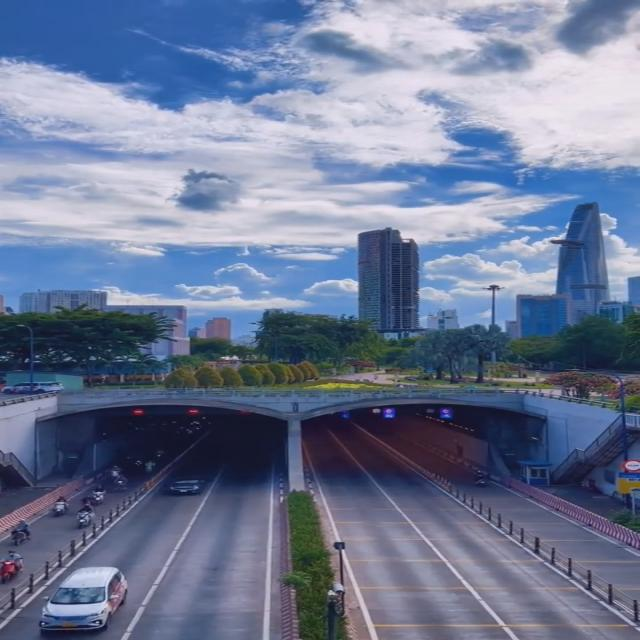car: (40, 564, 128, 638), (166, 477, 203, 496)
motorbike: (0, 552, 21, 583), (12, 518, 34, 547), (74, 503, 94, 528), (49, 495, 70, 516), (90, 486, 106, 504), (471, 469, 487, 486)
